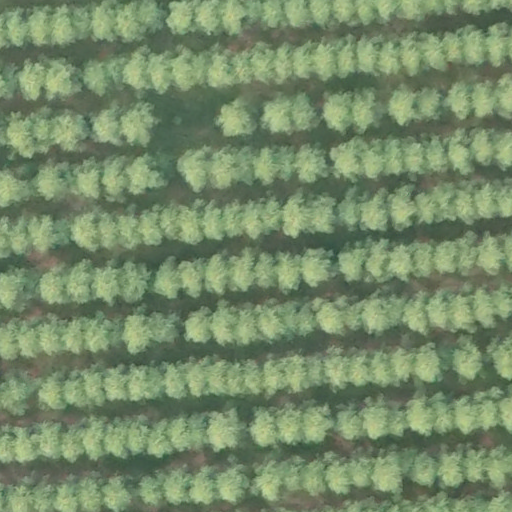eucalipto: (211, 95, 259, 141), (119, 101, 162, 149), (125, 153, 169, 196), (50, 108, 91, 154), (295, 401, 335, 448), (203, 408, 244, 452), (27, 214, 69, 256), (252, 144, 295, 185), (383, 81, 419, 129), (30, 160, 71, 202), (292, 141, 331, 185), (174, 146, 210, 193), (384, 184, 417, 234), (328, 139, 366, 182), (3, 111, 36, 160), (111, 2, 147, 46), (259, 94, 293, 140), (214, 462, 251, 504), (287, 92, 323, 134), (88, 104, 123, 147), (358, 396, 392, 440), (356, 187, 389, 232), (448, 340, 484, 381), (250, 459, 285, 501), (118, 311, 152, 354), (323, 90, 354, 137), (299, 247, 334, 288), (398, 294, 432, 336), (101, 154, 129, 204), (252, 305, 287, 345), (126, 363, 161, 403), (118, 259, 149, 304), (403, 396, 437, 437), (205, 142, 234, 190), (72, 156, 102, 202), (475, 232, 505, 278), (305, 194, 337, 237), (151, 255, 181, 300), (66, 258, 94, 306), (31, 419, 63, 461), (45, 3, 74, 49), (446, 130, 475, 176), (68, 211, 99, 254), (272, 406, 303, 449), (170, 416, 204, 455), (411, 342, 443, 383), (441, 80, 472, 122), (351, 88, 378, 136), (17, 57, 45, 103), (35, 267, 68, 306), (1, 377, 34, 416), (445, 291, 474, 335), (274, 249, 301, 296), (334, 190, 362, 235), (79, 417, 107, 462), (360, 298, 392, 337), (177, 256, 206, 299), (430, 178, 457, 224), (282, 353, 312, 394), (91, 1, 117, 48), (371, 459, 404, 496), (163, 1, 195, 39), (313, 300, 345, 338), (186, 467, 217, 506), (227, 252, 255, 295), (484, 21, 509, 69), (416, 32, 446, 72), (247, 409, 277, 449), (121, 51, 150, 92), (181, 307, 213, 344), (434, 453, 465, 491), (258, 356, 286, 398), (453, 394, 481, 436), (147, 50, 172, 97), (30, 111, 55, 158), (413, 85, 443, 124), (162, 469, 192, 508), (460, 24, 487, 67), (136, 208, 164, 249), (208, 305, 236, 346), (93, 263, 119, 307), (337, 246, 367, 284), (144, 420, 173, 459), (26, 4, 51, 49), (471, 286, 496, 331), (364, 242, 392, 282), (407, 451, 439, 486), (358, 138, 384, 181), (333, 406, 364, 442), (218, 1, 248, 38), (82, 57, 109, 98), (176, 207, 203, 248), (334, 34, 358, 80), (311, 40, 336, 84), (423, 133, 448, 177), (44, 59, 72, 98), (159, 362, 187, 401), (299, 459, 327, 498), (278, 454, 306, 493), (452, 181, 475, 228), (205, 51, 232, 91), (469, 79, 496, 119), (468, 128, 495, 168), (323, 353, 350, 393), (60, 424, 87, 464), (195, 1, 224, 38), (423, 292, 449, 333), (104, 420, 130, 461), (457, 231, 480, 277), (135, 1, 166, 35), (37, 375, 66, 411), (104, 476, 133, 512), (355, 36, 381, 76), (408, 239, 434, 279), (387, 243, 413, 283), (399, 33, 422, 78), (96, 210, 120, 253), (170, 55, 197, 93), (11, 425, 38, 463), (428, 397, 455, 435), (279, 197, 303, 239), (205, 254, 230, 294), (9, 214, 31, 259), (70, 3, 94, 44), (252, 44, 276, 85), (402, 135, 426, 176), (116, 211, 140, 252), (368, 350, 393, 389), (103, 364, 128, 403), (233, 144, 256, 186), (388, 347, 414, 384), (282, 1, 314, 31), (473, 182, 498, 220), (433, 239, 460, 274), (82, 319, 109, 354), (259, 198, 282, 239), (126, 421, 150, 460), (199, 206, 224, 243), (240, 200, 262, 242), (204, 359, 227, 399), (462, 447, 485, 487), (231, 48, 255, 86), (252, 251, 276, 289), (376, 40, 402, 75), (5, 8, 27, 49), (274, 41, 294, 86), (240, 357, 263, 396), (82, 369, 105, 408), (60, 319, 84, 356), (137, 473, 163, 507), (292, 42, 314, 82), (15, 324, 40, 359), (221, 202, 244, 240), (39, 319, 62, 357), (259, 1, 286, 33), (236, 306, 258, 345), (325, 462, 351, 495), (348, 350, 370, 388), (440, 31, 465, 64), (411, 193, 436, 226), (159, 202, 179, 243), (225, 361, 245, 400), (384, 136, 403, 177), (185, 364, 207, 399), (349, 457, 373, 489), (310, 1, 334, 32), (62, 375, 84, 407), (353, 1, 378, 28), (397, 1, 425, 24), (331, 1, 357, 25), (376, 1, 398, 23)
